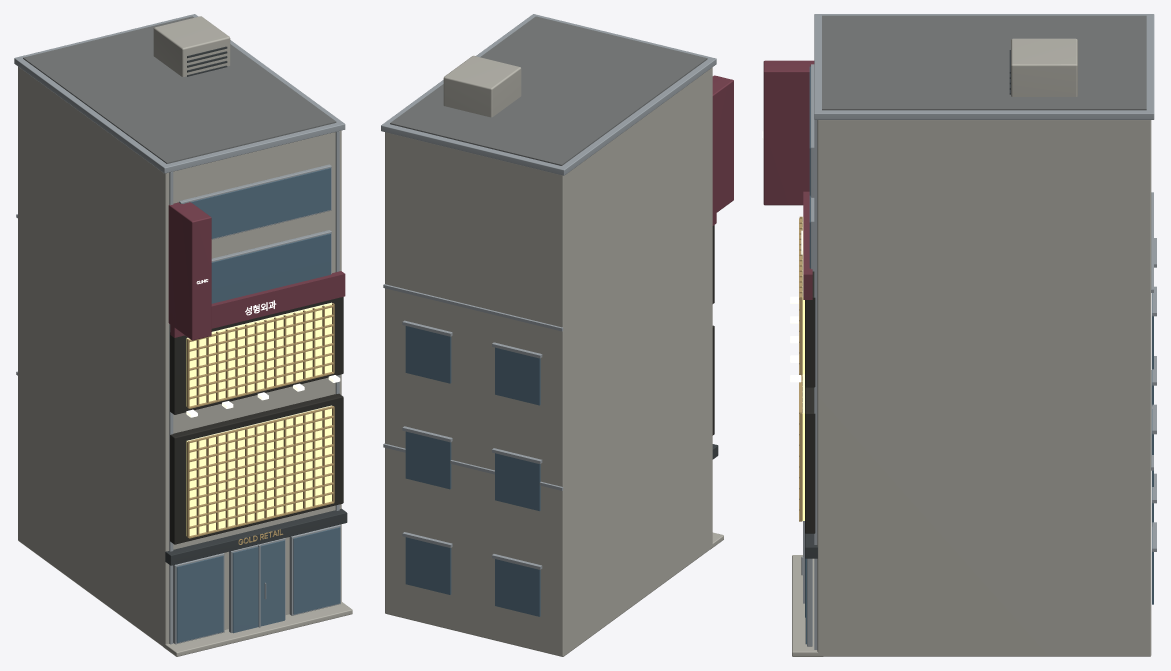
File: 02_bld.glb
The picture shows the model from 3 angles, left to right: view 1: azimuth 30°, elevation 25°; view 2: azimuth 150°, elevation 25°; view 3: azimuth 270°, elevation 25°; orthographic projection. The views are drawn at different scales.
Parts seen in each view (by area): view 1: Building solid shell.001, Roof surface.001, Amber shop interior, Amber shop interior.001, CLINIC sign case, Clinic upper window glass.001, Black stone surround, Clinic upper window glass, Roof coping.001, Shop entrance glass.001, Display window glass.003, Display window glass.002 (+12 smaller); view 2: Building solid shell.001, Roof surface.001, Roof coping.001, Roof service enclosure.001, CLINIC sign case, Rear glazing.007, Rear glazing.011, Rear glazing.009, Rear glazing.010, Rear glazing.006, Rear glazing.008, Rear floor band.003; view 3: Building solid shell.001, Roof surface.001, CLINIC sign case, Roof coping.001, Roof service enclosure.001, Facade edge trim.003, Stone threshold.001, Black stone surround, Black stone surround.001, Clinic fascia, Clinic upper window frame.001.
Part boxes in pixels (bbox=[...]): Building solid shell.001: bbox=[18, 66, 341, 647]; Roof surface.001: bbox=[23, 16, 336, 163]; Amber shop interior: bbox=[186, 405, 331, 535]; Amber shop interior.001: bbox=[186, 302, 332, 406]; CLINIC sign case: bbox=[168, 202, 211, 340]; Clinic upper window glass.001: bbox=[183, 168, 330, 238]; Black stone surround: bbox=[170, 393, 343, 544]; Clinic upper window glass: bbox=[211, 233, 330, 303]; Roof coping.001: bbox=[14, 14, 345, 173]; Shop entrance glass.001: bbox=[232, 540, 284, 633]; Display window glass.003: bbox=[293, 527, 340, 614]; Display window glass.002: bbox=[176, 555, 223, 642]; Building solid shell.001: bbox=[385, 67, 712, 656]; Roof surface.001: bbox=[390, 16, 707, 165]; Roof coping.001: bbox=[381, 14, 716, 175]; Roof service enclosure.001: bbox=[443, 55, 521, 117]; CLINIC sign case: bbox=[712, 75, 733, 214]; Rear glazing.007: bbox=[405, 537, 451, 594]; Rear glazing.011: bbox=[405, 326, 451, 383]; Rear glazing.009: bbox=[405, 431, 451, 489]; Rear glazing.010: bbox=[495, 347, 540, 405]; Rear glazing.006: bbox=[495, 559, 540, 616]; Rear glazing.008: bbox=[495, 453, 540, 511]; Rear floor band.003: bbox=[383, 284, 563, 331]; Building solid shell.001: bbox=[817, 120, 1151, 656]; Roof surface.001: bbox=[822, 15, 1146, 110]; CLINIC sign case: bbox=[763, 60, 814, 205]; Roof coping.001: bbox=[814, 14, 1154, 119]; Roof service enclosure.001: bbox=[1011, 38, 1077, 96]; Facade edge trim.003: bbox=[814, 120, 817, 649]; Stone threshold.001: bbox=[792, 555, 823, 656]; Black stone surround: bbox=[805, 387, 815, 533]; Black stone surround.001: bbox=[805, 271, 815, 387]; Clinic fascia: bbox=[803, 191, 812, 299]; Clinic upper window frame.001: bbox=[810, 64, 814, 197].
Size of the model in its own units: 6.36 by 17.2 by 10.64.
